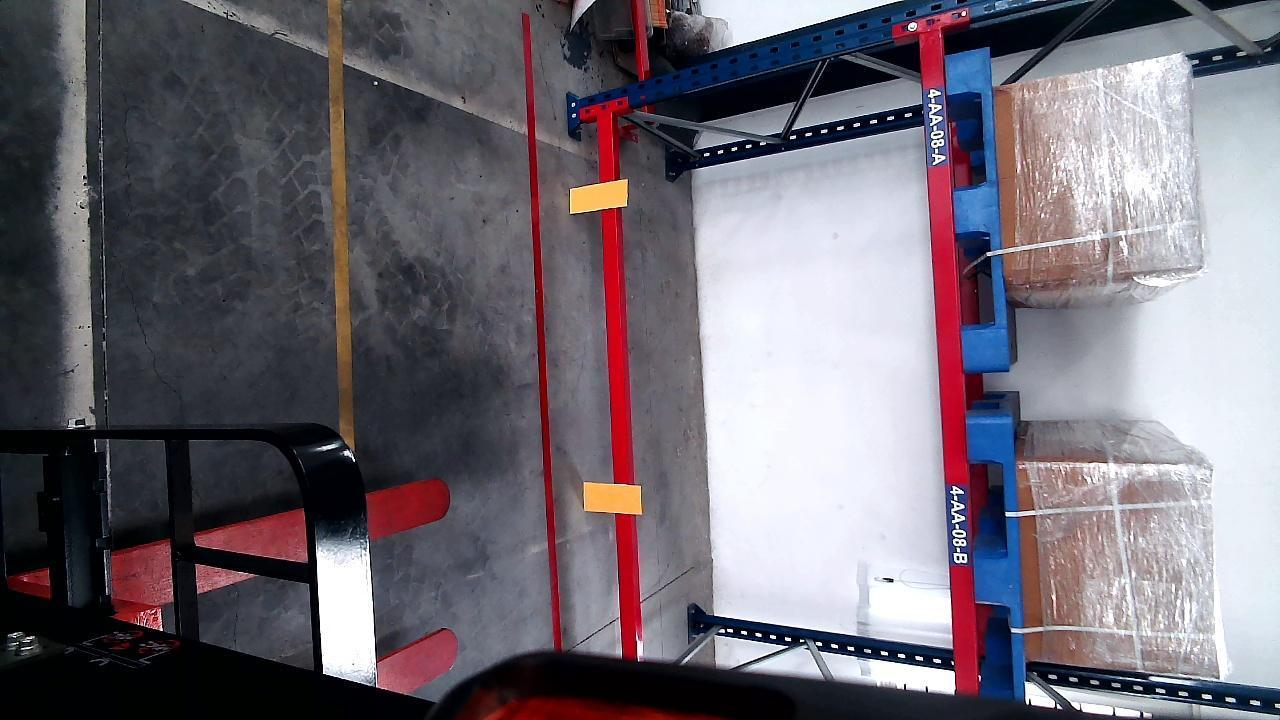h_rack: (922, 31, 980, 692), (599, 112, 636, 645)
orange_strip: (568, 179, 628, 213), (584, 481, 642, 514)
red_line: (523, 11, 563, 660)
small_pallet: (948, 50, 1006, 371), (970, 419, 1025, 686)
yellow_line: (329, 3, 355, 439)
